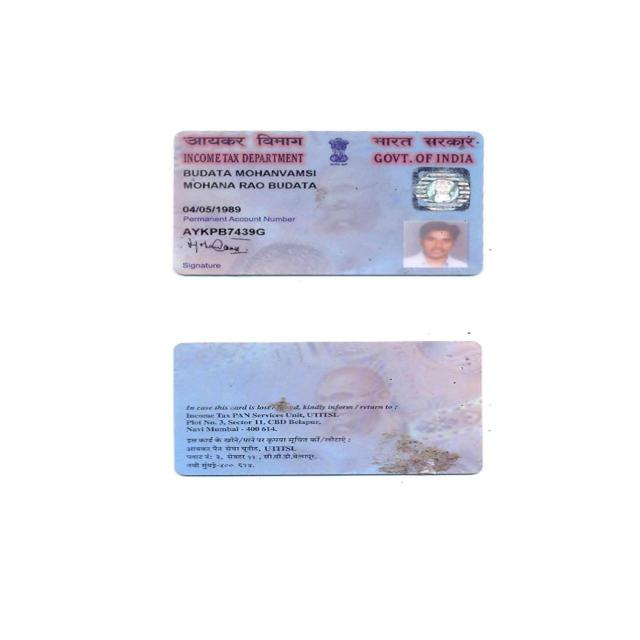pan_card: (172, 131, 483, 277), (173, 345, 477, 475)
